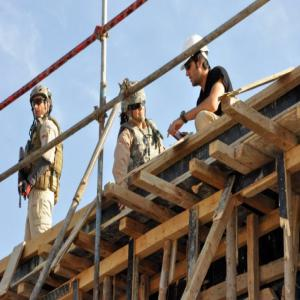white: (184, 36, 209, 87)
yellow: (122, 81, 149, 128), (31, 86, 51, 120)
